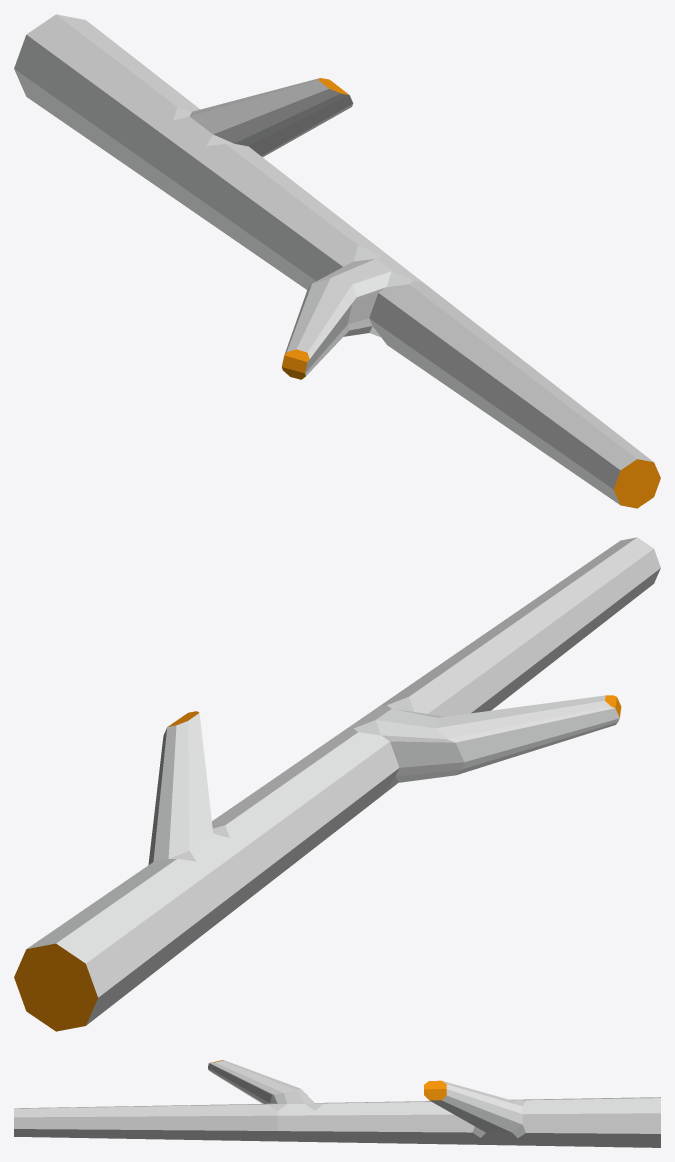
Rendered from Stick_17.fbx.
3 renders of one model, top to bottom at view 1: azimuth 30°, elevation 25°; view 2: azimuth 150°, elevation 25°; view 3: azimuth 270°, elevation 25°, orthographic. The views are drawn at different scales.
Parts seen in each view (by area): view 1: Circle.222; view 2: Circle.222; view 3: Circle.222.
Part boxes in pixels (<box>): Circle.222: <box>14,14,660,508</box>; Circle.222: <box>14,537,660,1031</box>; Circle.222: <box>14,1060,660,1147</box>.
Bounding box in the file's own units: 10.4 × 5.83 × 40.73.
